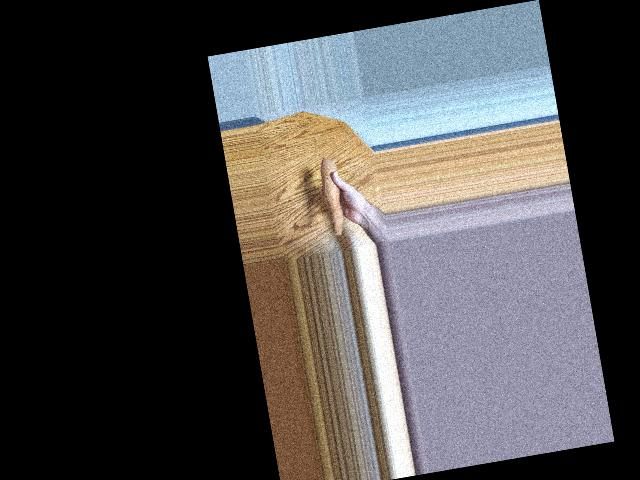sweet_potato: (316, 159, 351, 237)
